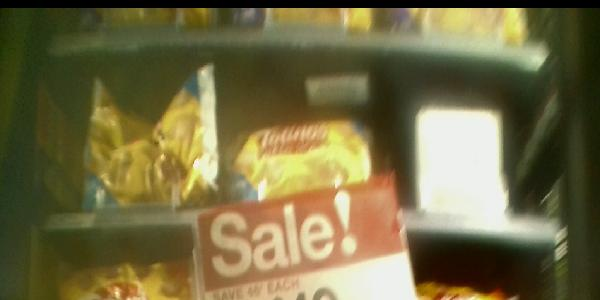icecream: (79, 74, 223, 214), (228, 99, 375, 221)
